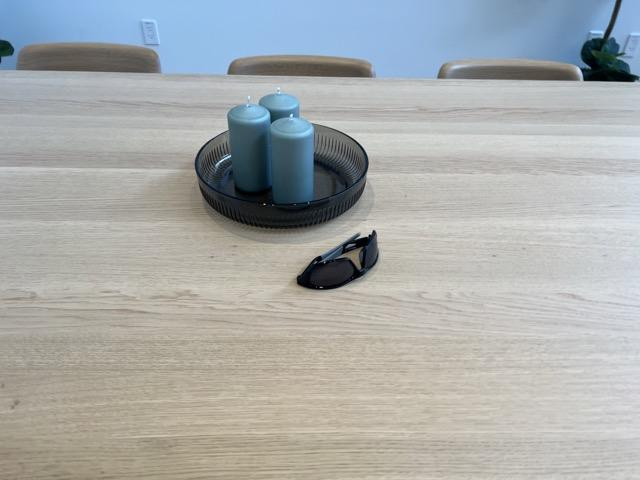Sunglasses: (298, 230, 381, 292)
